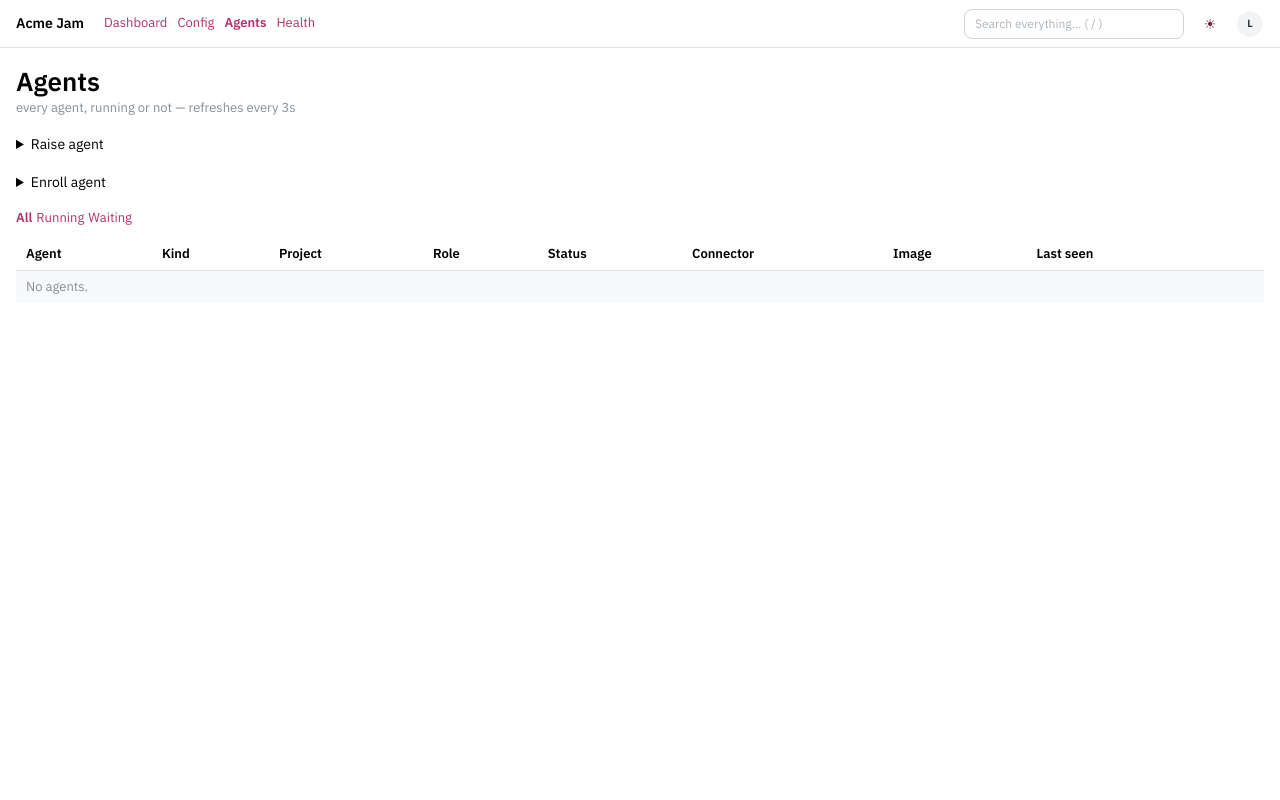
Test case: the Agents list › enrolls and shows the token once
Click the heading "Enroll agent" at (68, 182), box [31,173,106,191]
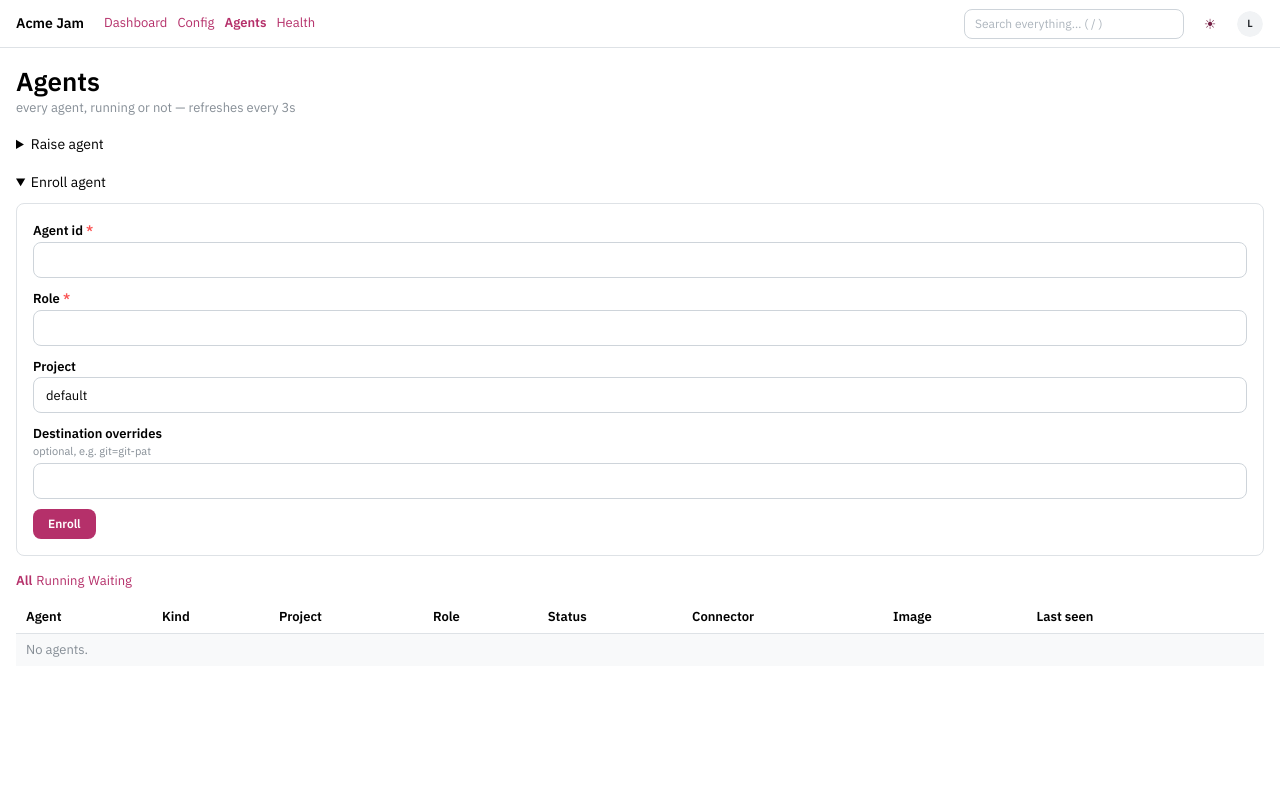
Type "bot-1" into the field labelled "Agent id *" at (640, 260), box [33,242,1247,278]
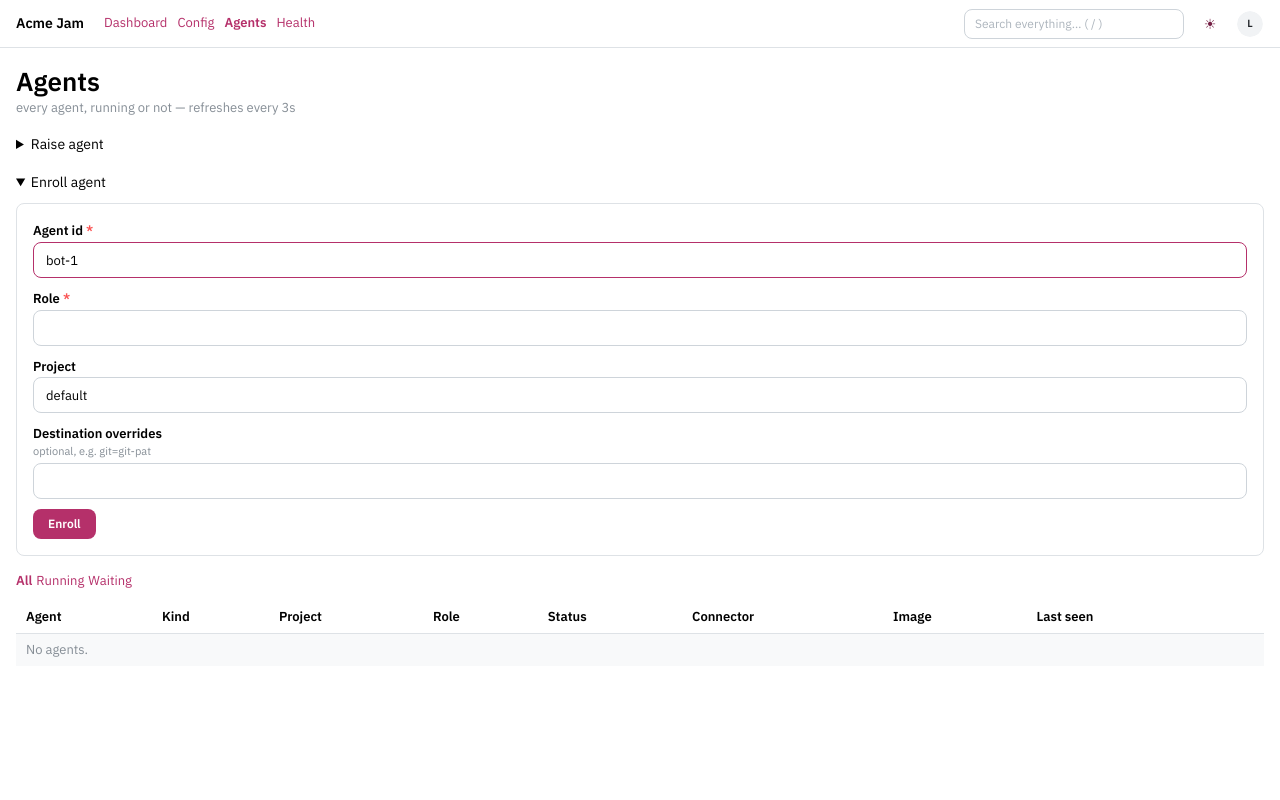
Type "coder" into the field labelled "Role *" at (640, 328), box [33,310,1247,346]
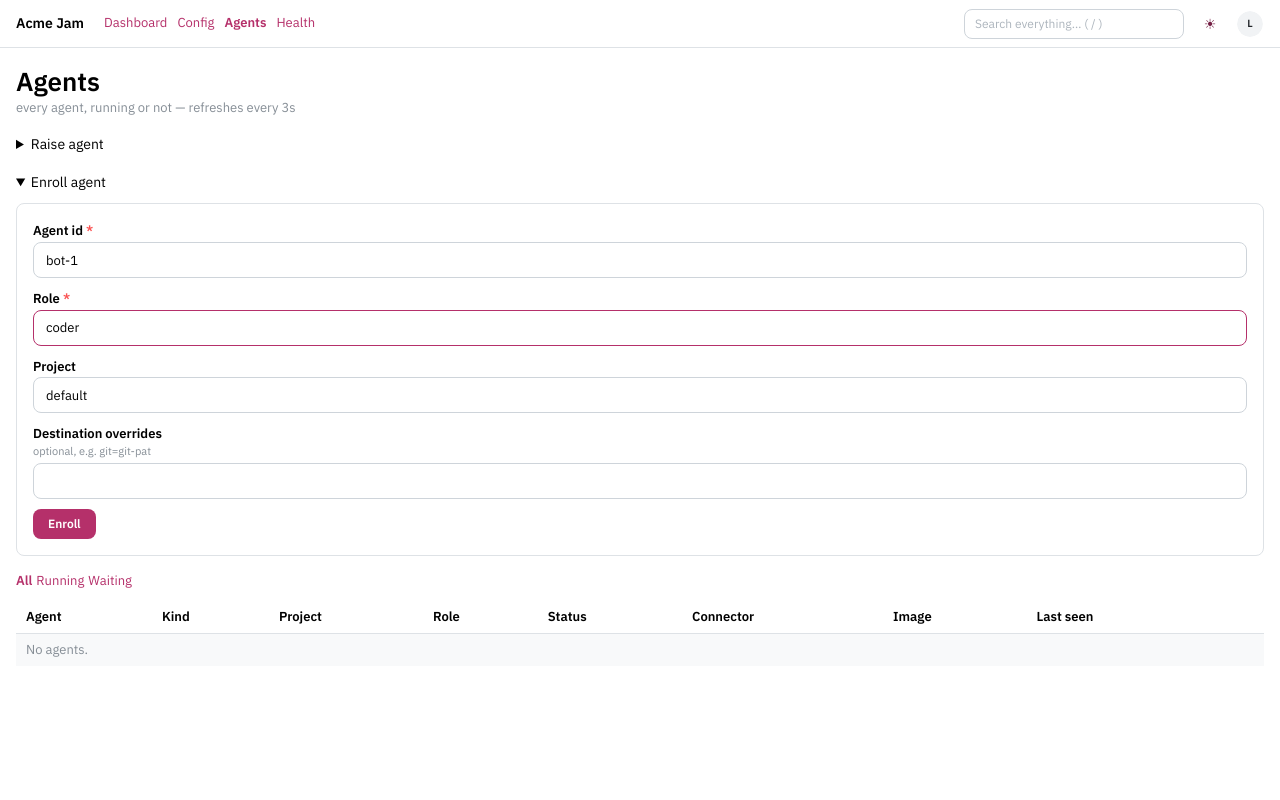
Click the button "Enroll" at (64, 524), box [33,509,96,539]
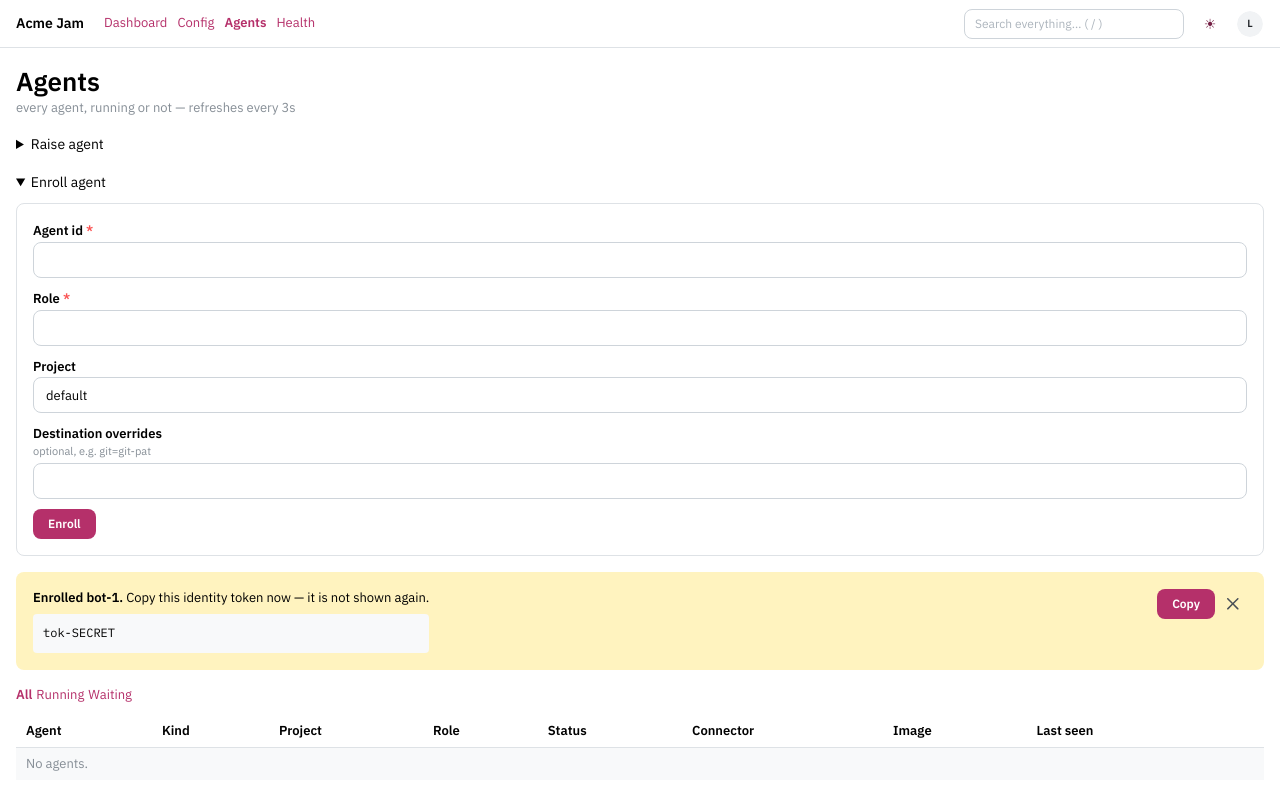
expect the text "Copy this identity token now — it is not shown again." is shown: met, box [123,589,429,606]
expect the text "Enrolled bot-1." is shown: met, box [33,589,123,606]
expect the text "tok-SECRET" is shown: met, box [33,614,429,653]
